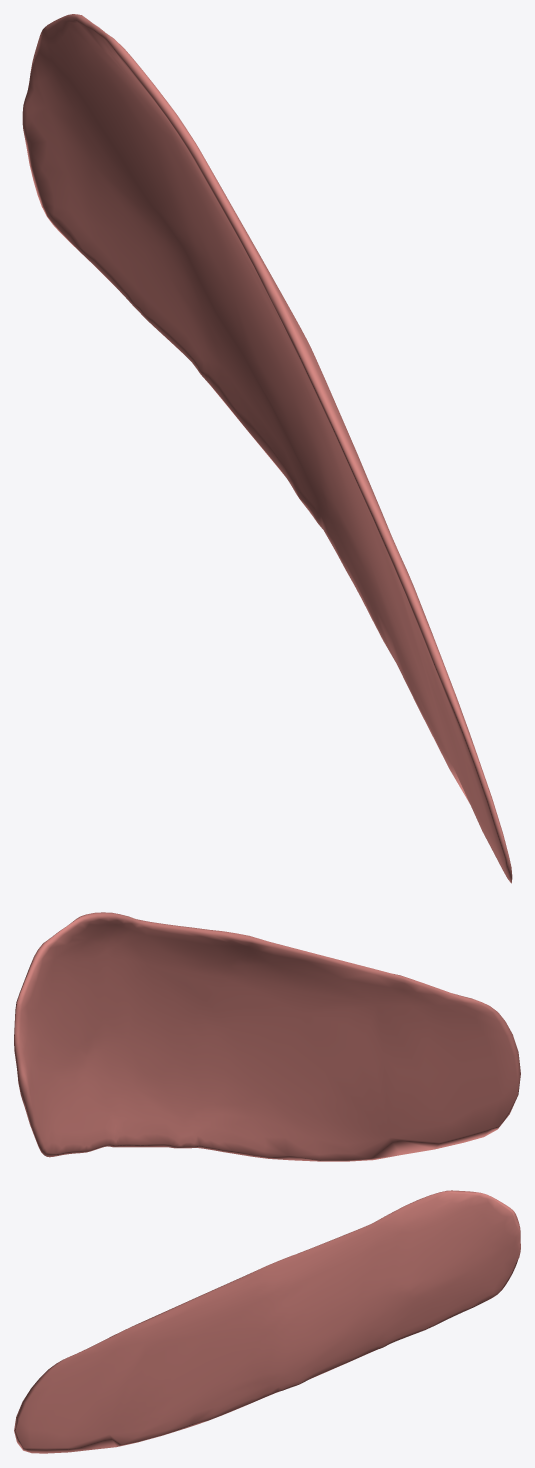
The picture shows the model from 3 angles, top to bottom: view 1: azimuth 30°, elevation 25°; view 2: azimuth 150°, elevation 25°; view 3: azimuth 270°, elevation 25°; orthographic projection. The views are drawn at different scales.
Visible parts, largest first — view 1: ZA_a5dff03157e09b08; view 2: ZA_a5dff03157e09b08; view 3: ZA_a5dff03157e09b08.
Part boxes in pixels (left/top/right/bottom): ZA_a5dff03157e09b08: left=22, top=14, right=512, bottom=883; ZA_a5dff03157e09b08: left=14, top=912, right=520, bottom=1161; ZA_a5dff03157e09b08: left=14, top=1190, right=520, bottom=1453.
Size of the model in its own units: 0.00576 by 0.029 by 0.0499.
